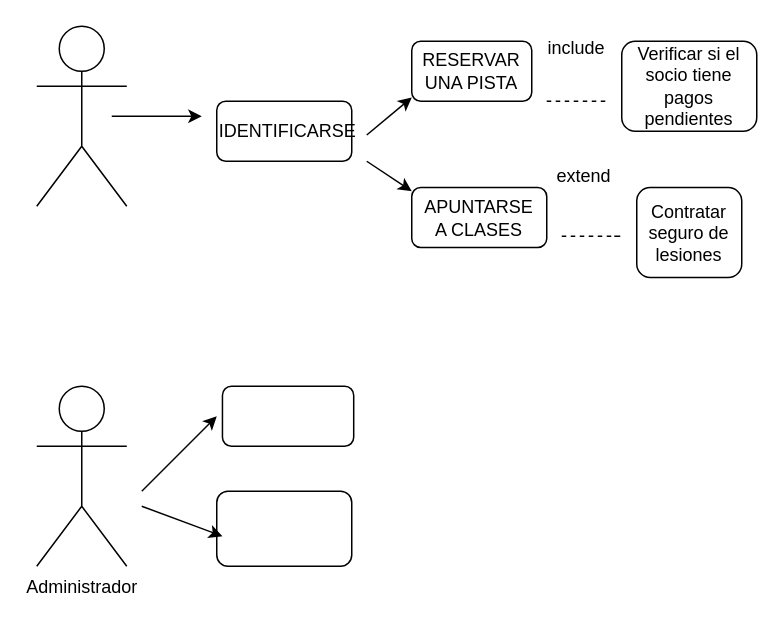
This 783x624 diagram has some shape labels left out. The shapes that lost their labels are listed below. From the top down, each one's box as (x1, y1, x2, y2) in pixels, then its label:
(35, 25, 127, 206): Socio
(221, 385, 354, 446): DAR DE ALTA CLASES
(215, 490, 352, 566): GESTIONAR PAGOS DE LOS SOCIOS
